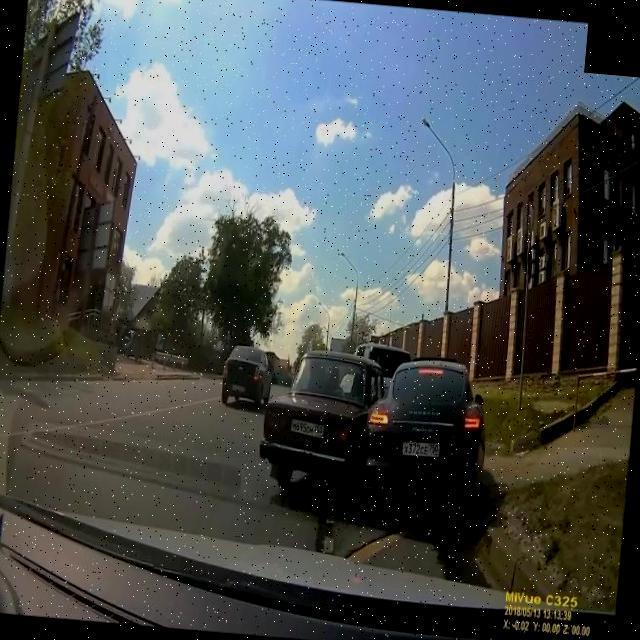accident: (254, 338, 499, 530)
